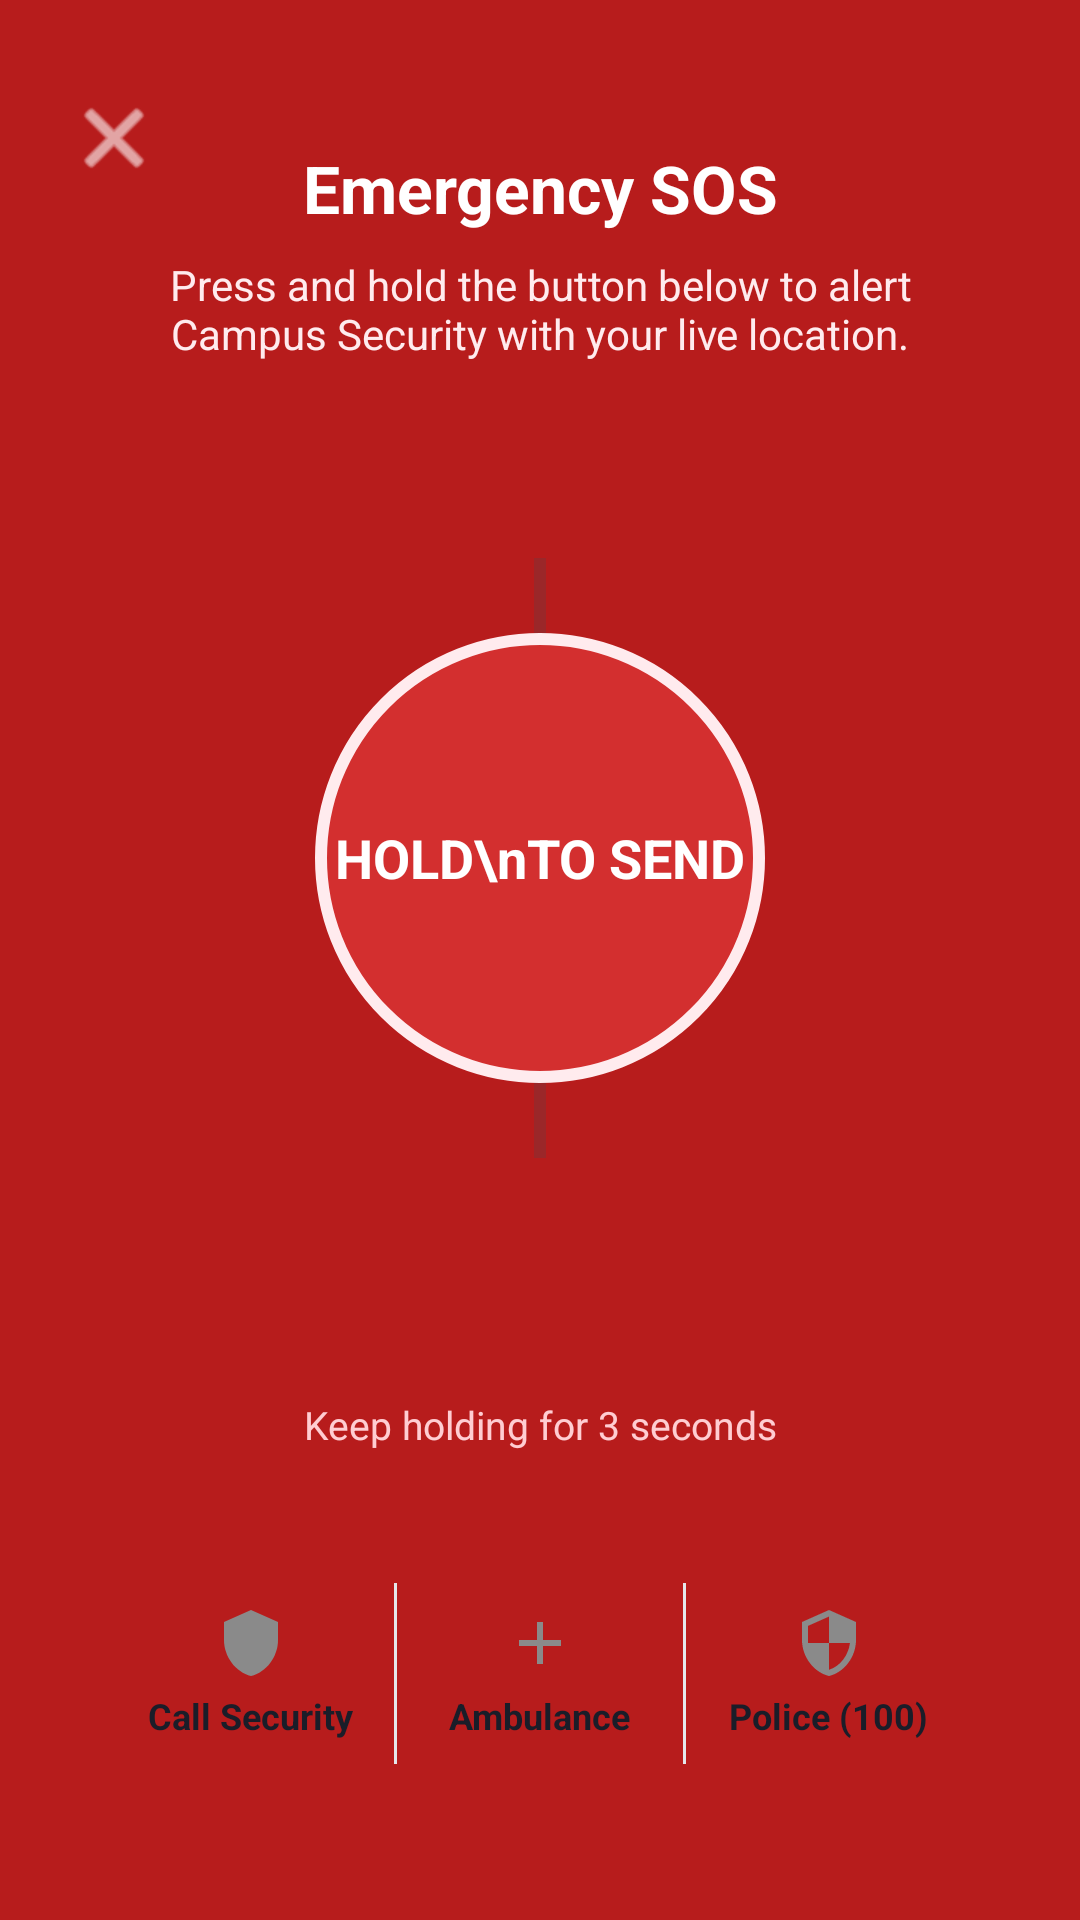

Icon bounding boxes for this 1080 x 1920 phone screenshot, format (x1, y1, x2, y2):
Cancel and close: (84, 108, 144, 168)
